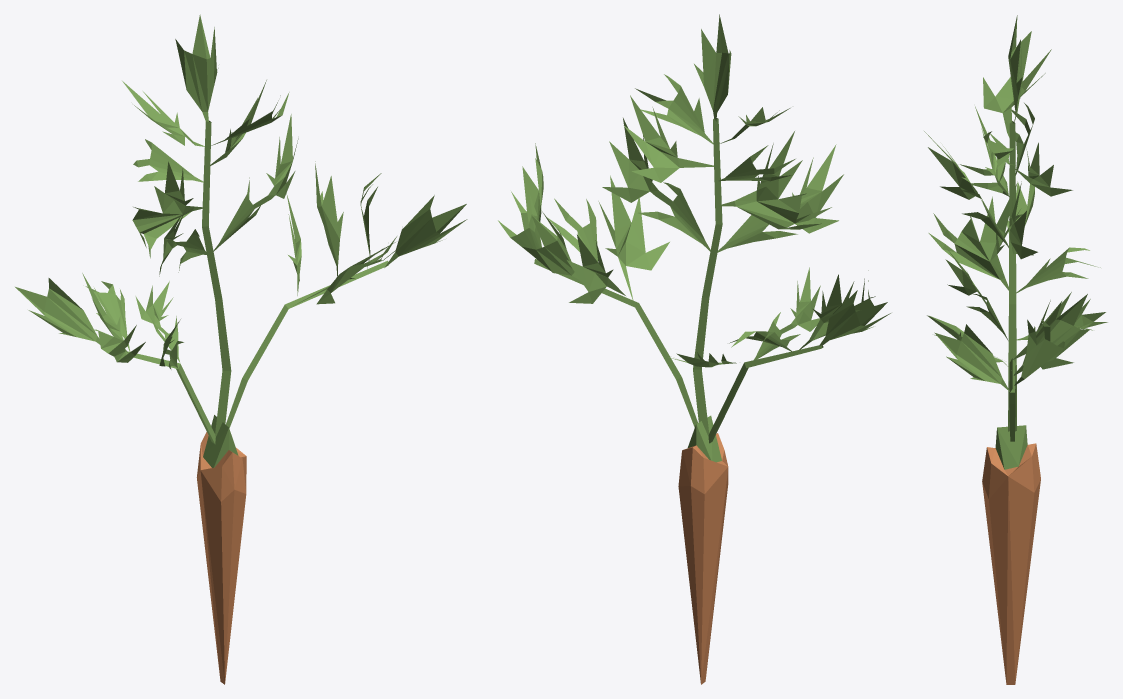
The model's file is Carrot_3.fbx.
3 views of the same model, side by side, from view 1: azimuth 30°, elevation 25°; view 2: azimuth 150°, elevation 25°; view 3: azimuth 270°, elevation 25° (orthographic). The views are drawn at different scales.
Parts seen in each view (by area): view 1: Carrot_3; view 2: Carrot_3; view 3: Carrot_3.
Part boxes in pixels (bbox=[...]): Carrot_3: bbox=[15, 14, 467, 684]; Carrot_3: bbox=[498, 14, 890, 684]; Carrot_3: bbox=[924, 15, 1107, 684].
Size of the model in its own units: 35.54 by 55.79 by 14.36.
